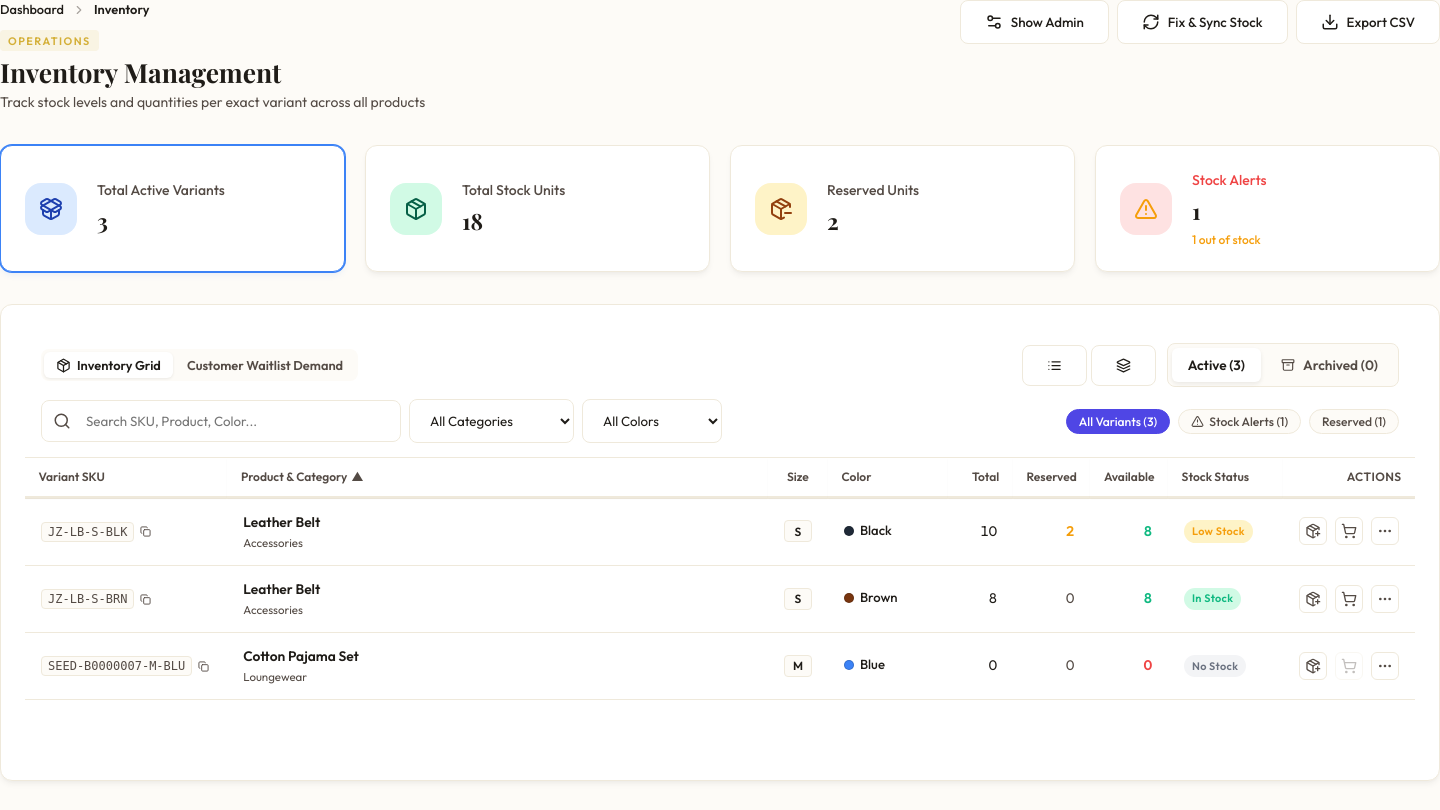
Test: Inventory Modernized Grid › opens Restock modal targeting the exact clicked variant
Click the button named "Restock Leather Belt (S, Brown)": (1313, 598) [1299,584,1327,612]
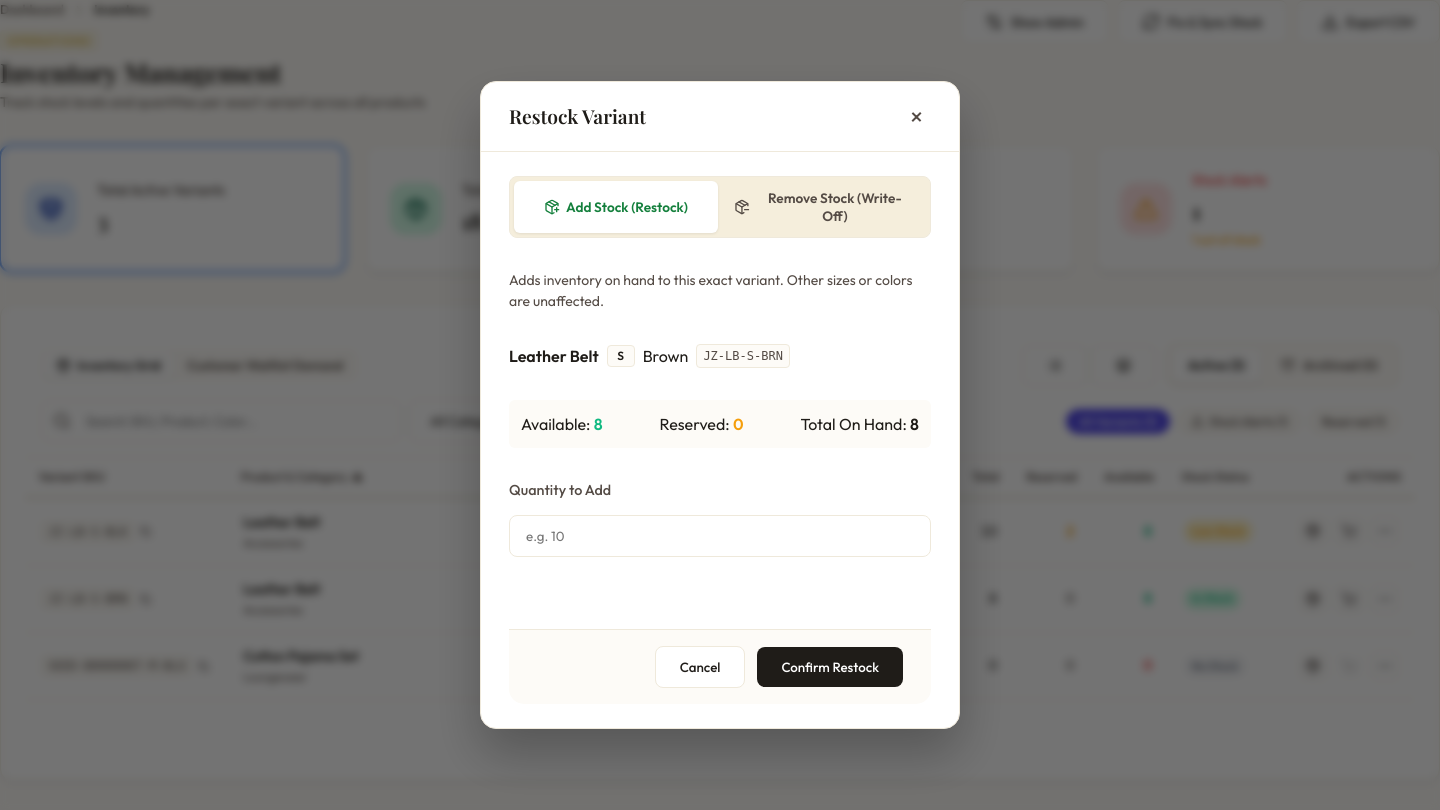
Check: the heading "Restock Variant" is shown, box [509,102,646,131]
Check: the number field labelled "Quantity to Add" is shown, box [509,515,931,557]
Note: Close modal
Click the button named "Close dialog": (916, 116) [902,104,931,128]
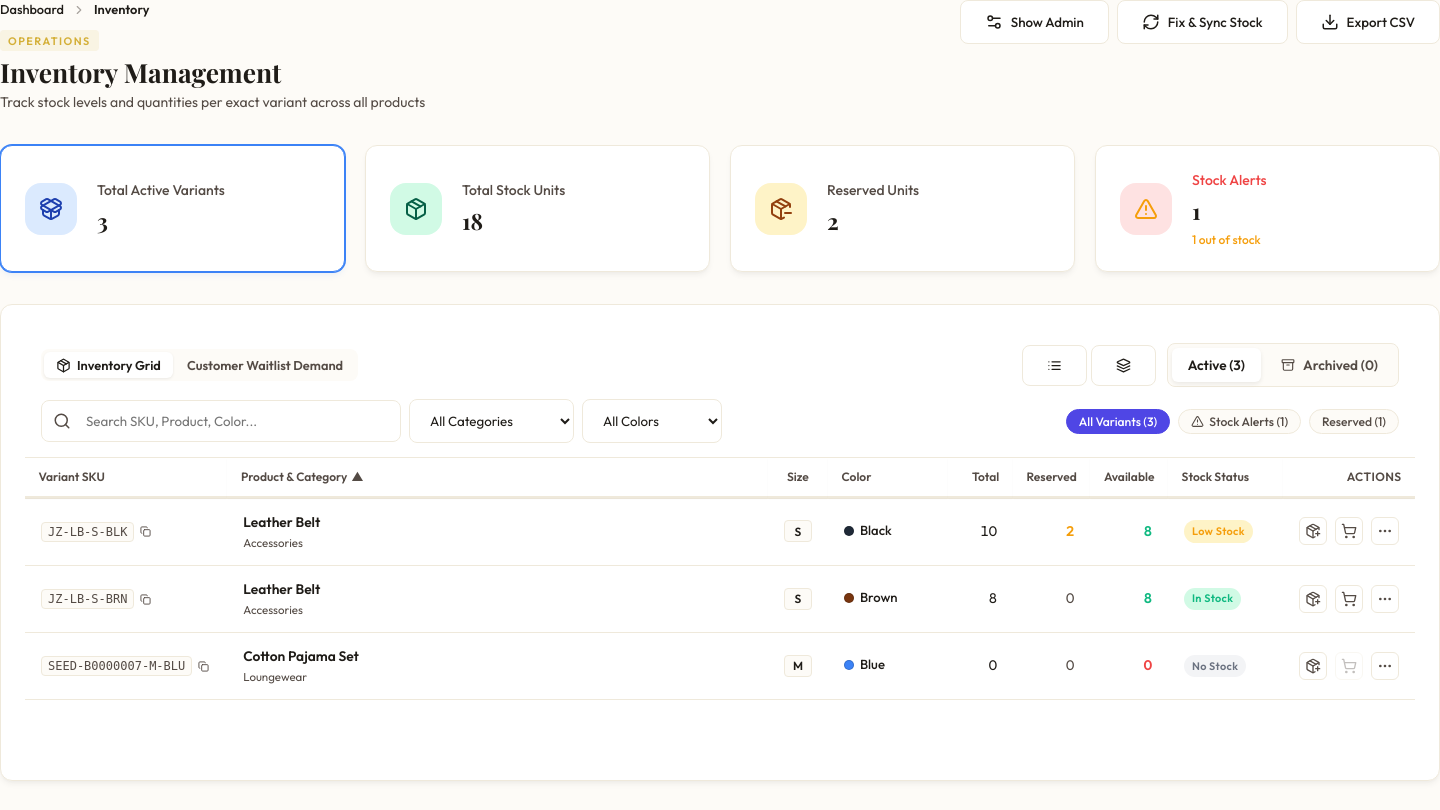
Check: the button "Restock Variant" is gone
